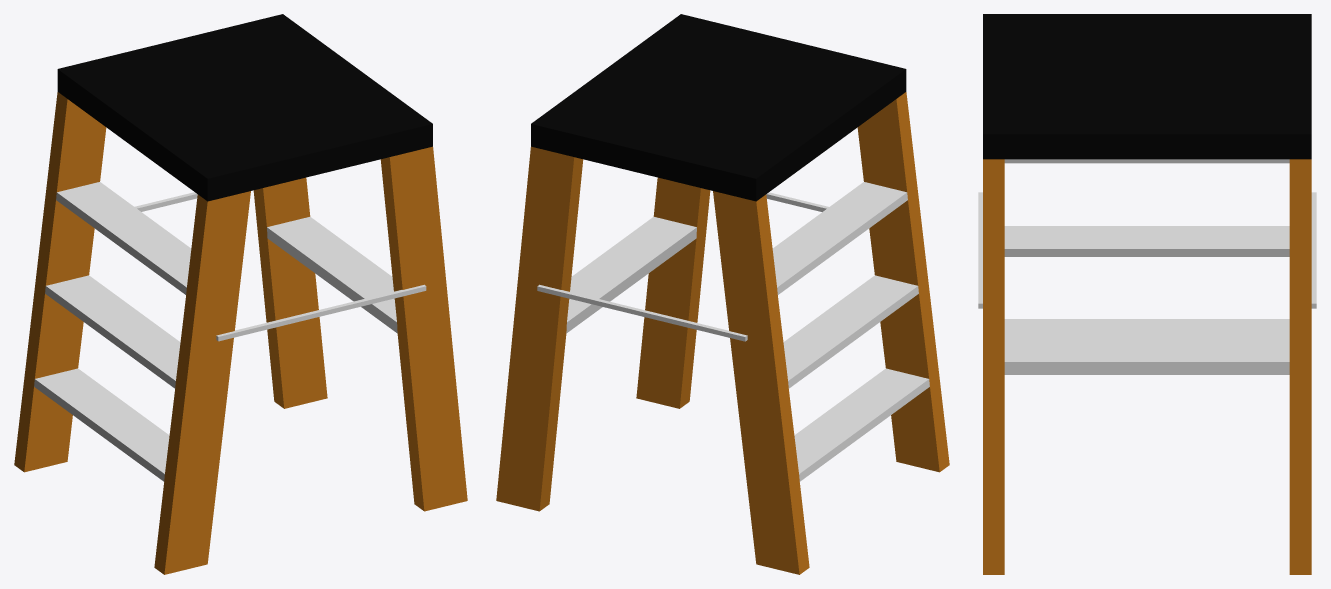
File: small_ladder.fbx
3 renders of one model, left to right at view 1: azimuth 30°, elevation 25°; view 2: azimuth 150°, elevation 25°; view 3: azimuth 270°, elevation 25°, orthographic. The views are drawn at different scales.
Visible parts, largest first — view 1: ladder; view 2: ladder; view 3: ladder.
Boxes of the visible parts, <box> form: ladder: <box>14,14,467,574</box>; ladder: <box>496,14,949,574</box>; ladder: <box>978,14,1316,574</box>.
Size of the model in its own units: 70 by 85 by 61.7.
